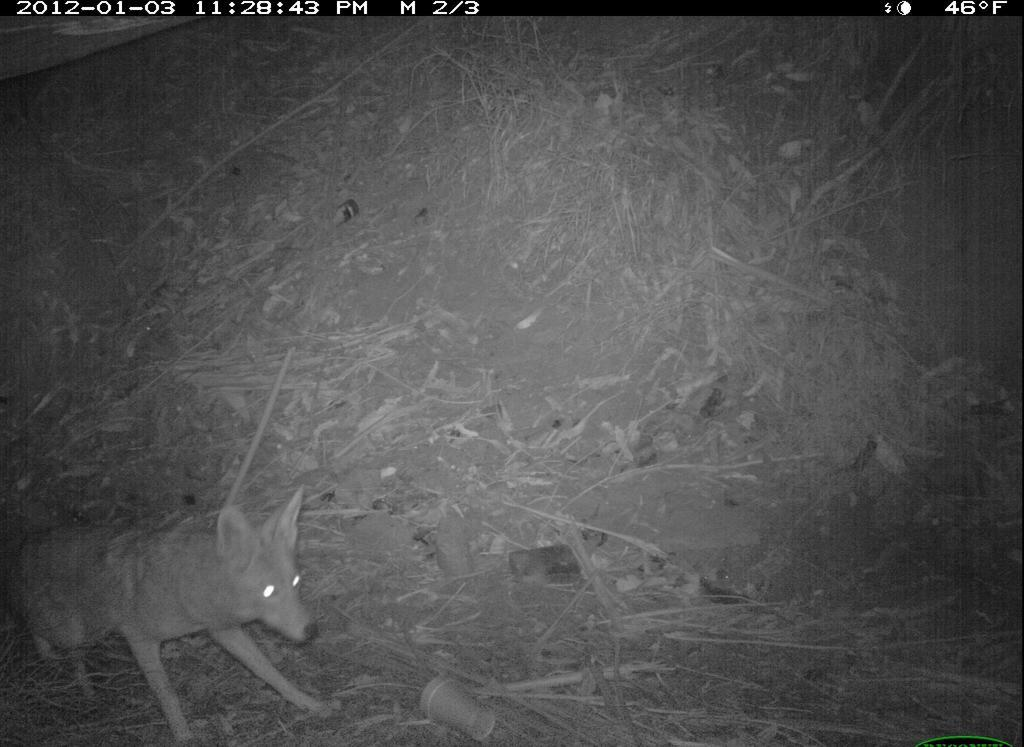coyote: (22, 473, 347, 715)
